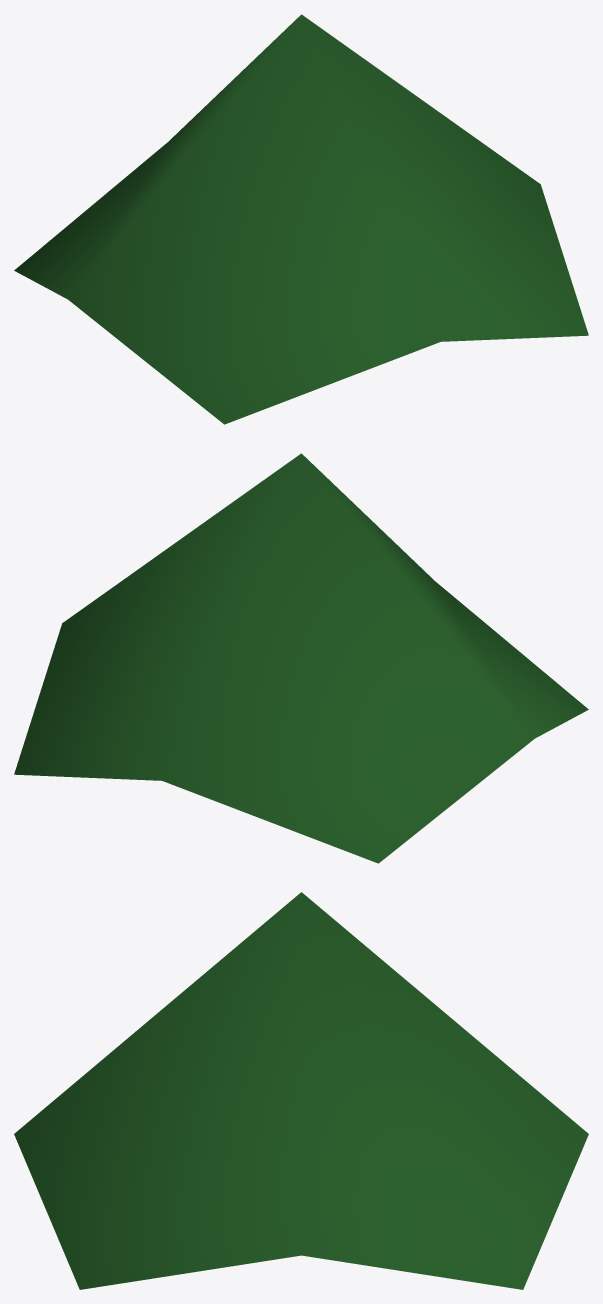
The model's file is Hojas_3.fbx.
3 views of the same model, one above another, from view 1: azimuth 30°, elevation 25°; view 2: azimuth 150°, elevation 25°; view 3: azimuth 270°, elevation 25° (orthographic). The views are drawn at different scales.
Parts seen in each view (by area): view 1: Hojas_3; view 2: Hojas_3; view 3: Hojas_3.
Boxes of the visible parts, x1,y1,x2,y2 form: Hojas_3: (14, 14, 588, 424); Hojas_3: (14, 453, 588, 863); Hojas_3: (14, 892, 588, 1289).
Size of the model in its own units: 1013 by 592 by 1013.
